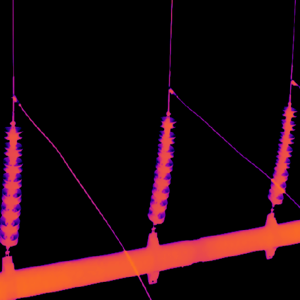insulator: (145, 113, 177, 225), (266, 104, 296, 206), (0, 123, 23, 247)
